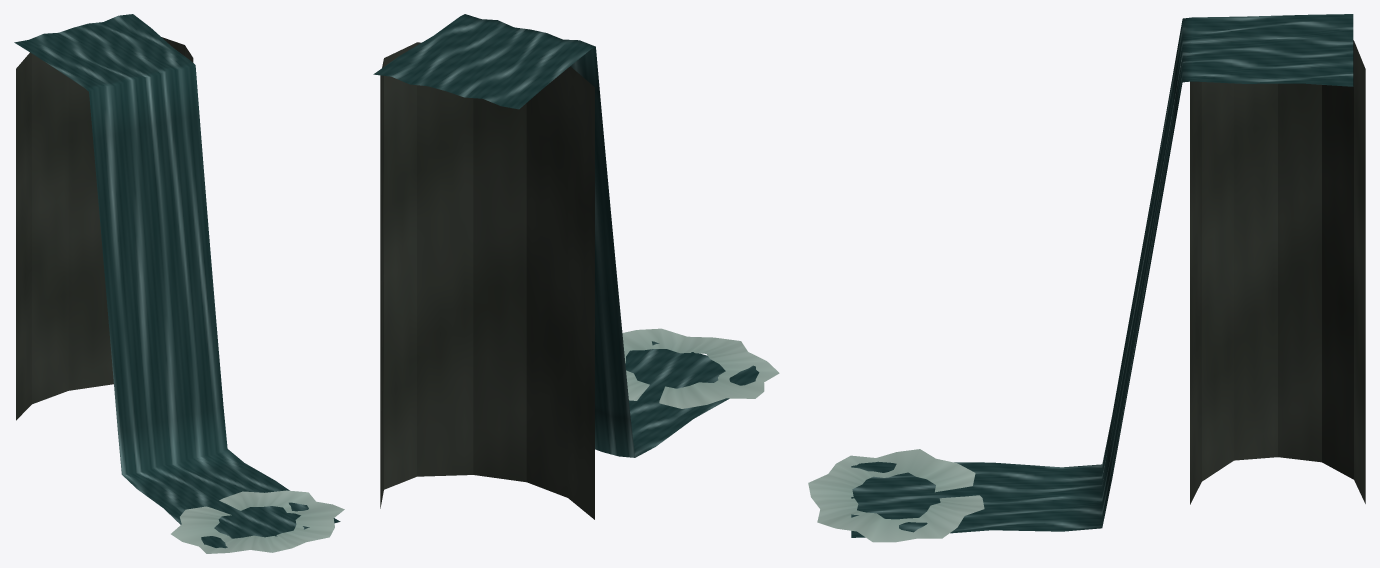
File: fall-narrow-lod0.glb
The picture shows the model from 3 angles, left to right: view 1: azimuth 30°, elevation 25°; view 2: azimuth 150°, elevation 25°; view 3: azimuth 270°, elevation 25°; orthographic projection. The views are drawn at different scales.
Bounding box in the file's own units: 0.4564 × 1 × 1.11.
1 material, 1 textured.
